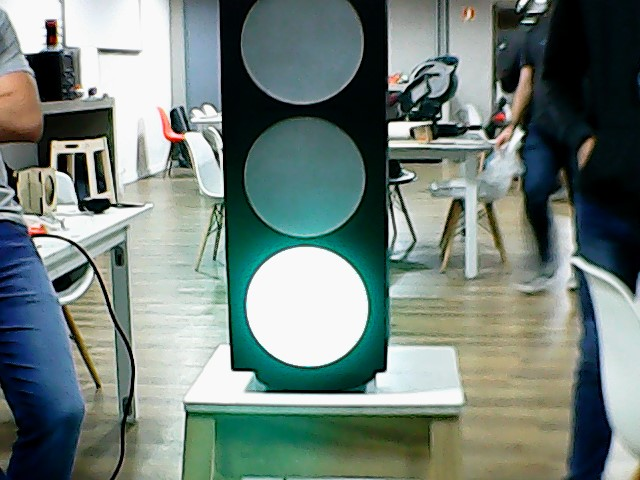verde: (214, 1, 396, 374)
